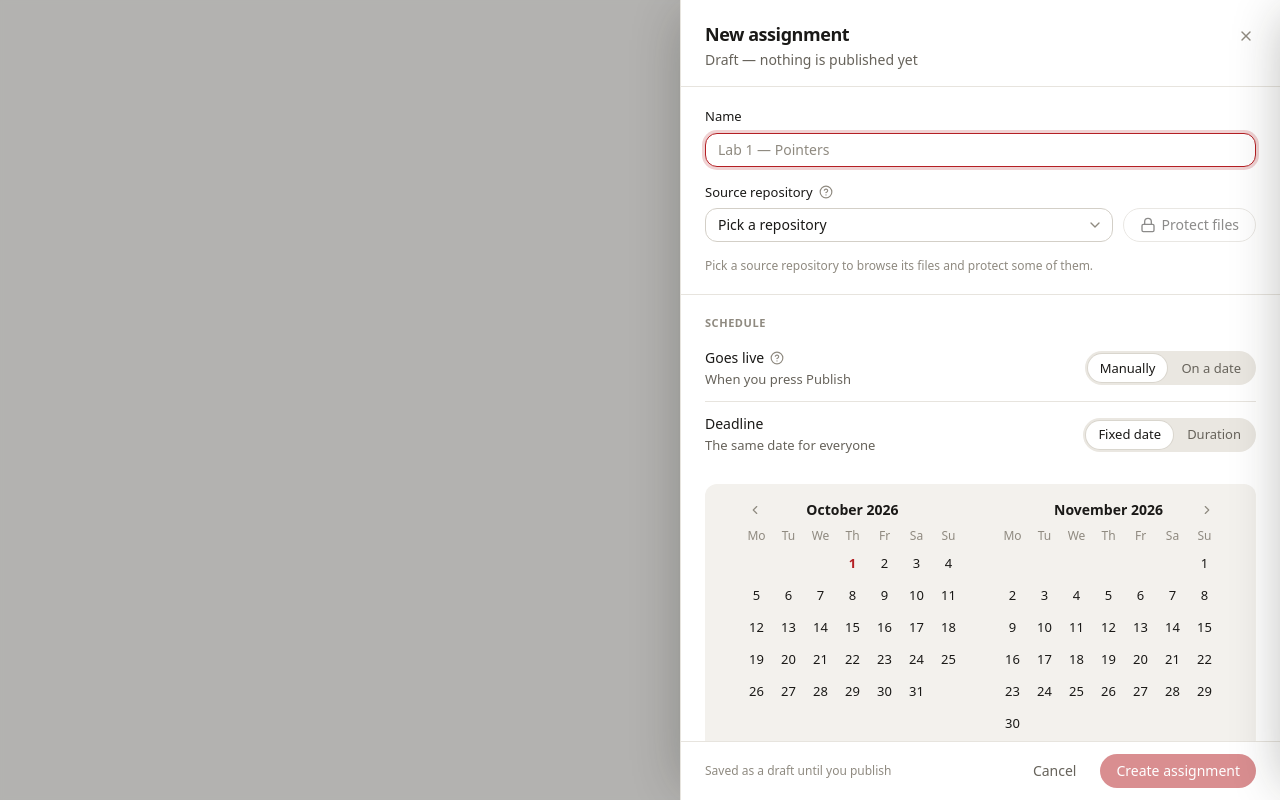
Scenario: AssignmentForm group work › stops blocking Save once the size field is off screen
This screenshot has width=1280, height=800.
Step 1. Select "labo-02-quadratic" in the dropdown labelled "Source repository" → (909, 225), box top-left (705, 208), bottom-right (1112, 242)
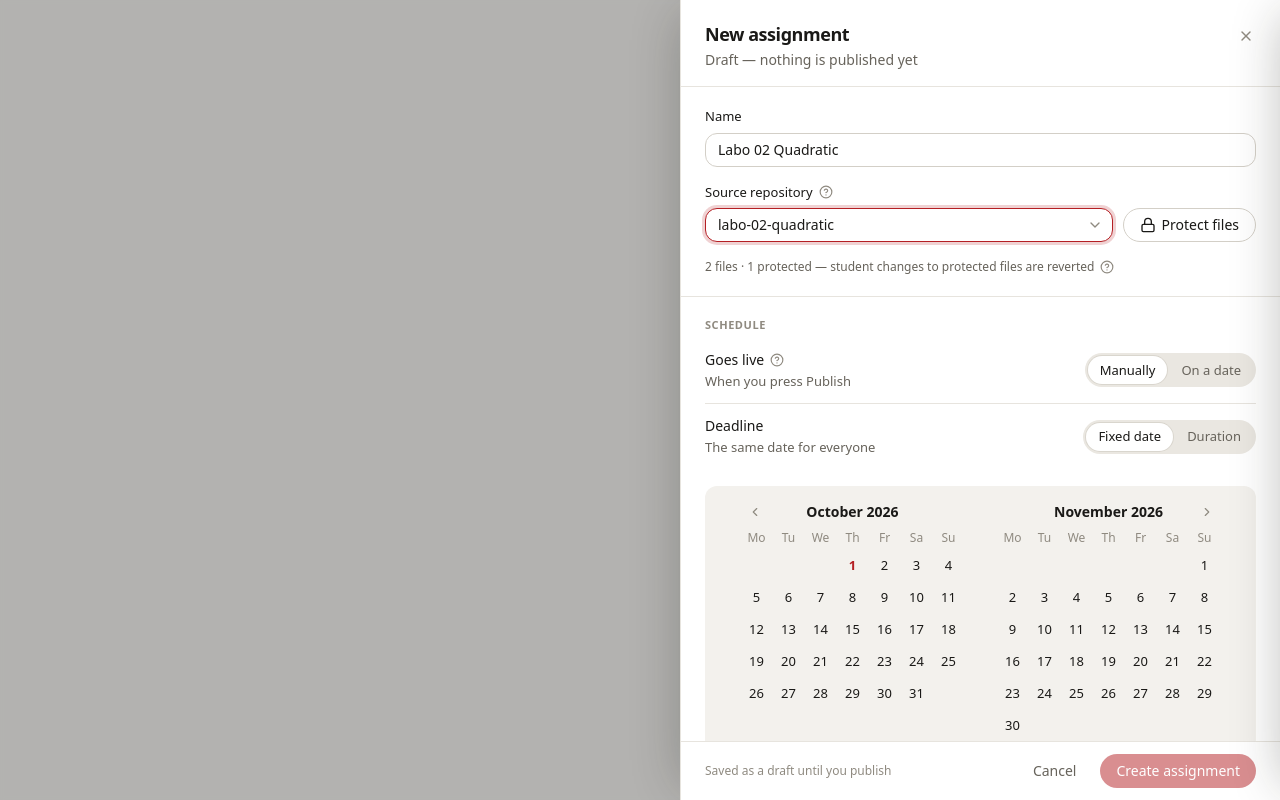
Expected: the text "2 files · 1 protected" is shown, top-left (705, 258), bottom-right (1116, 276)
Step 2. Click the radio button labelled "Duration" → (1214, 436), box top-left (1187, 427), bottom-right (1241, 445)
(page scrolled)
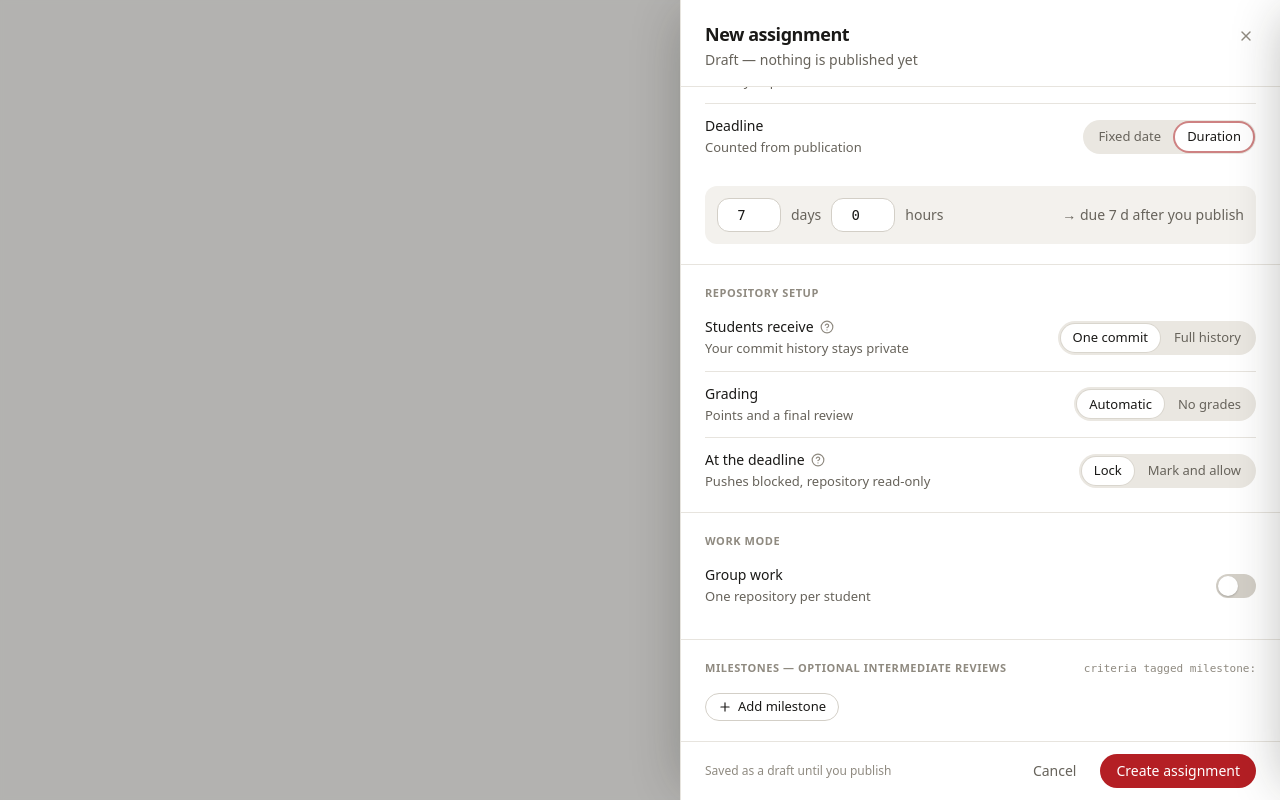
Step 3. Click the switch named "Group work" → (1236, 586), box top-left (1216, 574), bottom-right (1256, 598)
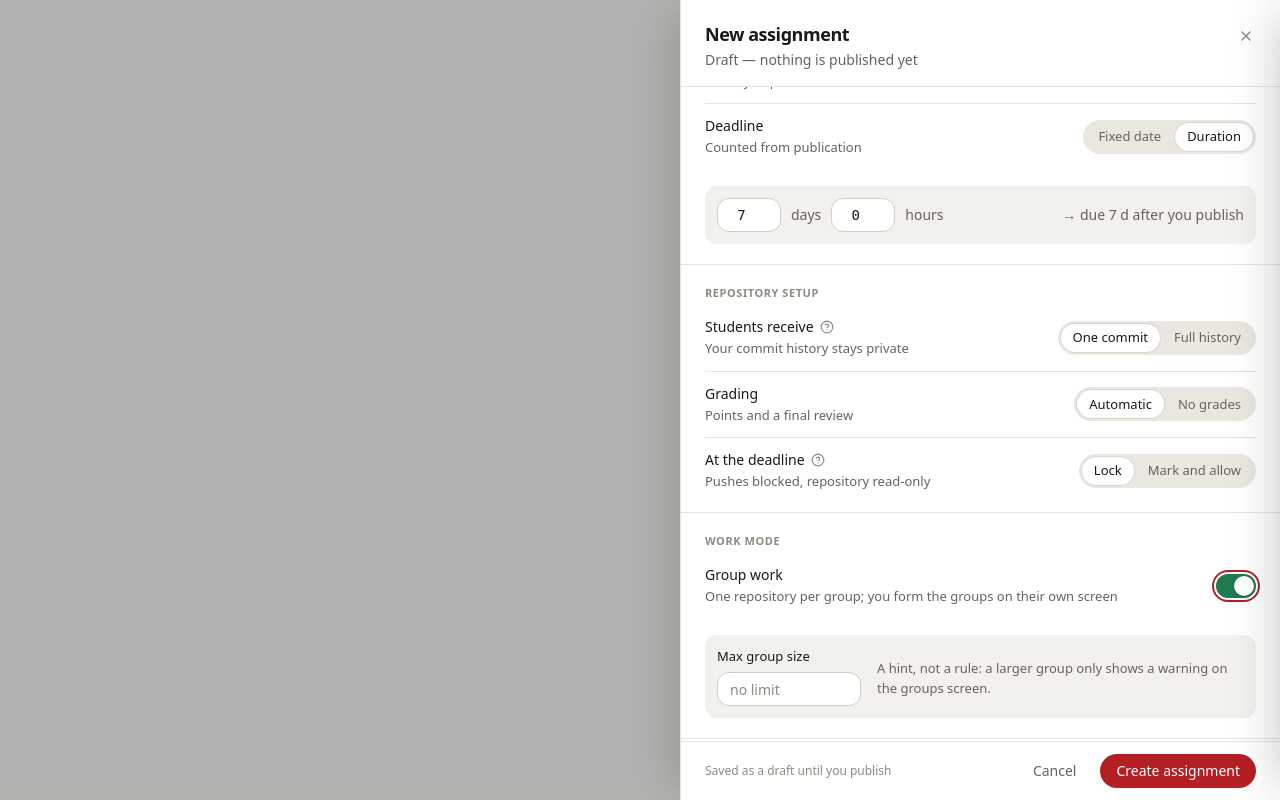
Step 4. Type "99" into the number field labelled "Max group size" → (789, 689), box top-left (717, 672), bottom-right (861, 706)
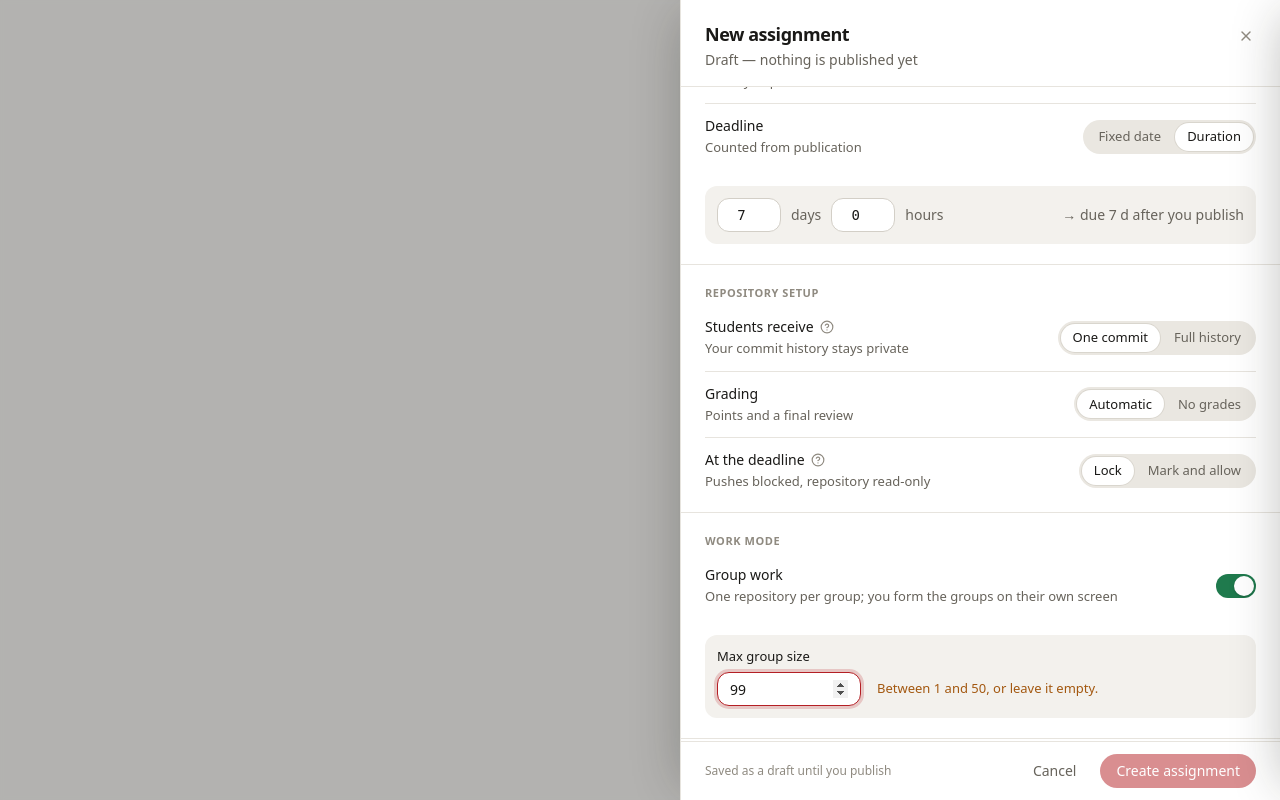
Expected: the button "Create assignment" is disabled, top-left (1100, 754), bottom-right (1256, 788)
Step 5. Click the switch named "Group work" → (1236, 586), box top-left (1216, 574), bottom-right (1256, 598)
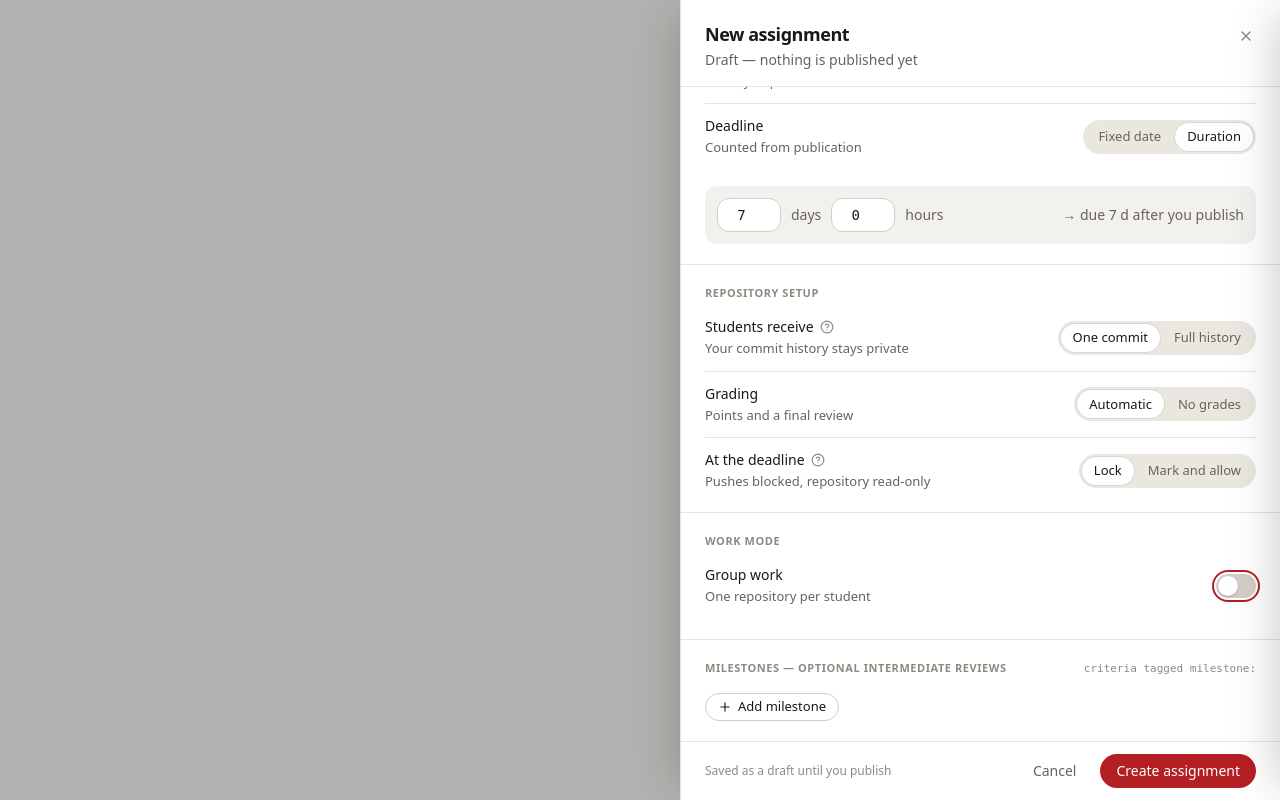
Expected: the label labelled "Max group size" is gone
Expected: the button "Create assignment" is enabled, top-left (1100, 754), bottom-right (1256, 788)
